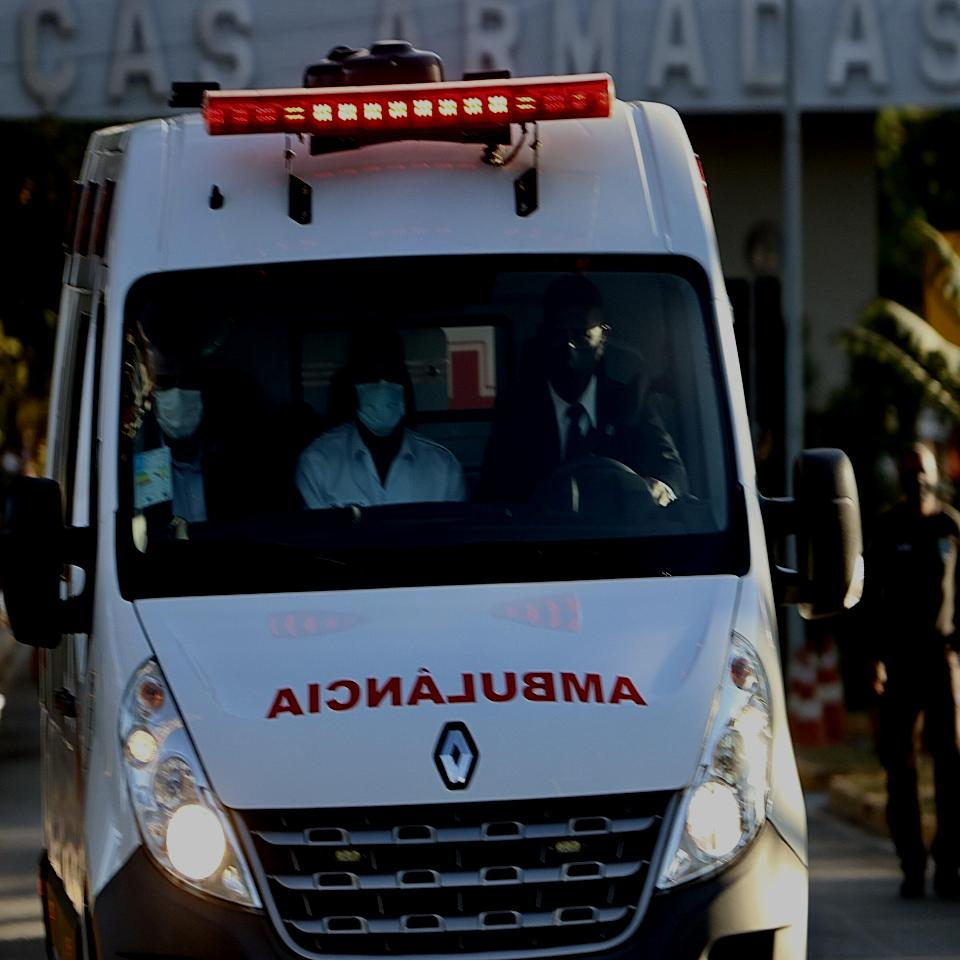ambulancia: (0, 68, 810, 960)
